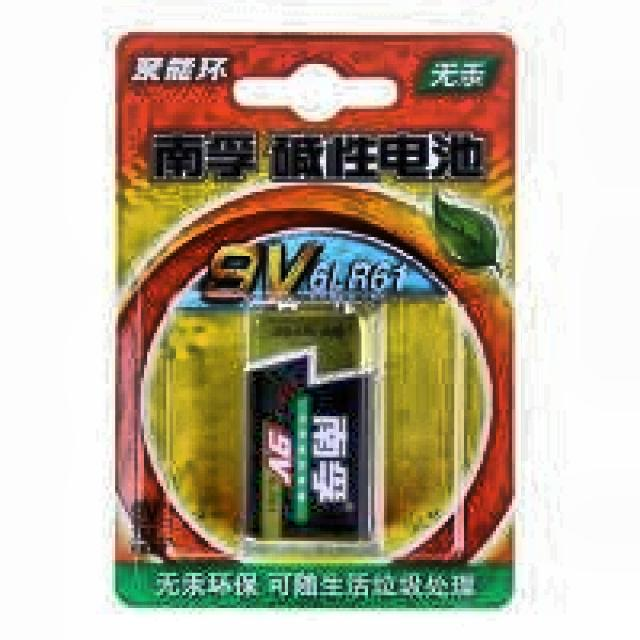Non-Valuable Waste - Batteries: (248, 304, 368, 541)
